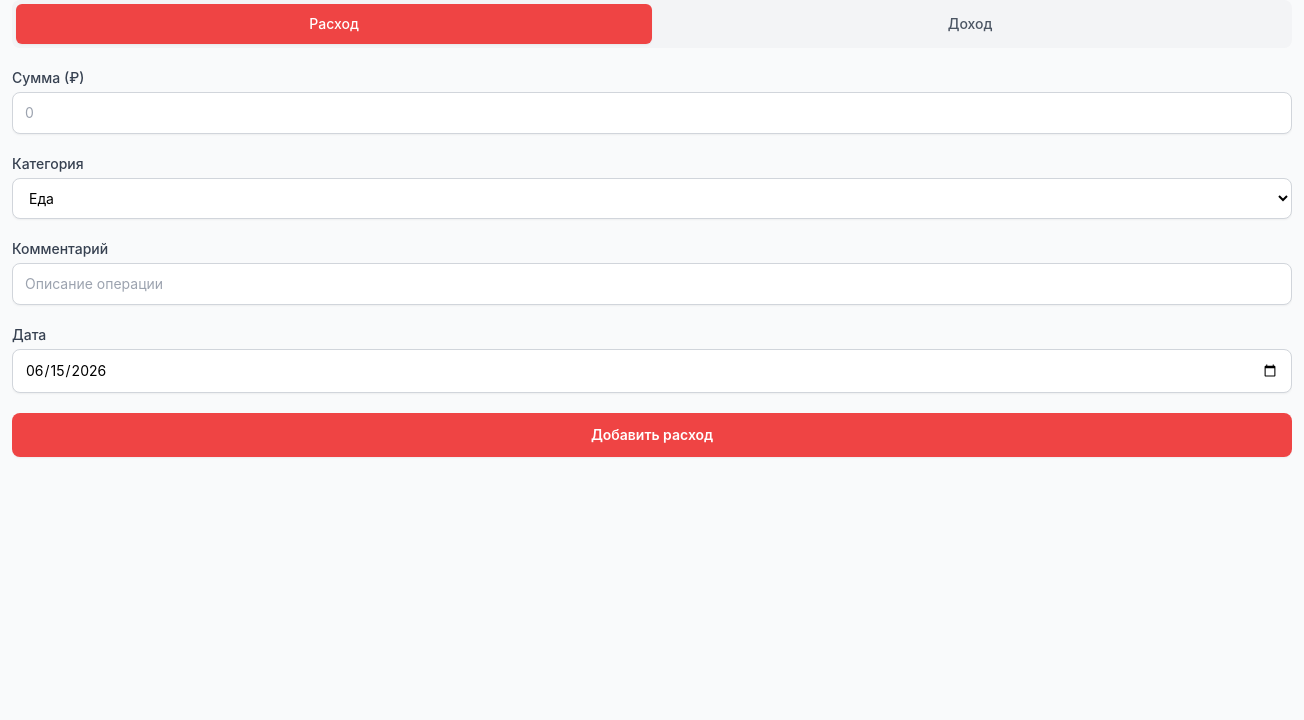
Test: AddTransactionForm › показывает ошибку при пустой сумме
This screenshot has width=1304, height=720.
In the field labelled "Комментарий": (652, 284) x1=12 y1=263 x2=1292 y2=305, type "Тест"
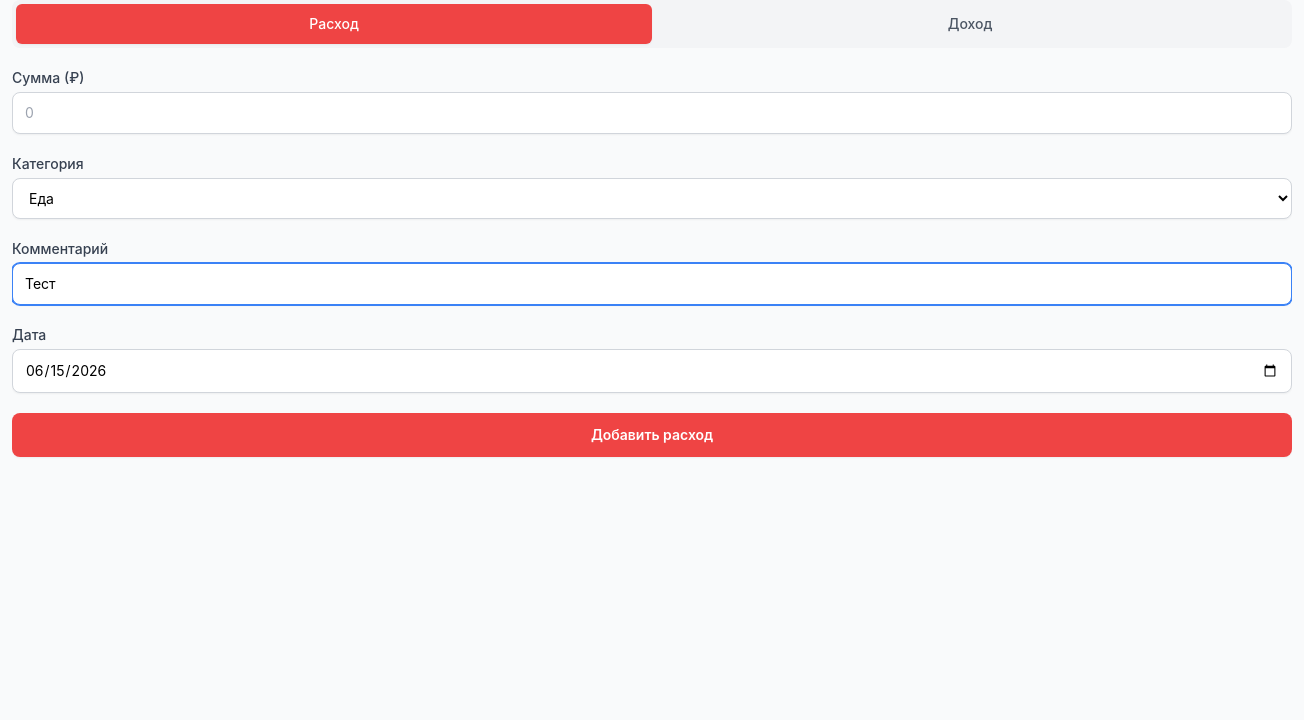
Click the button "Добавить расход": (652, 435) x1=12 y1=413 x2=1292 y2=457
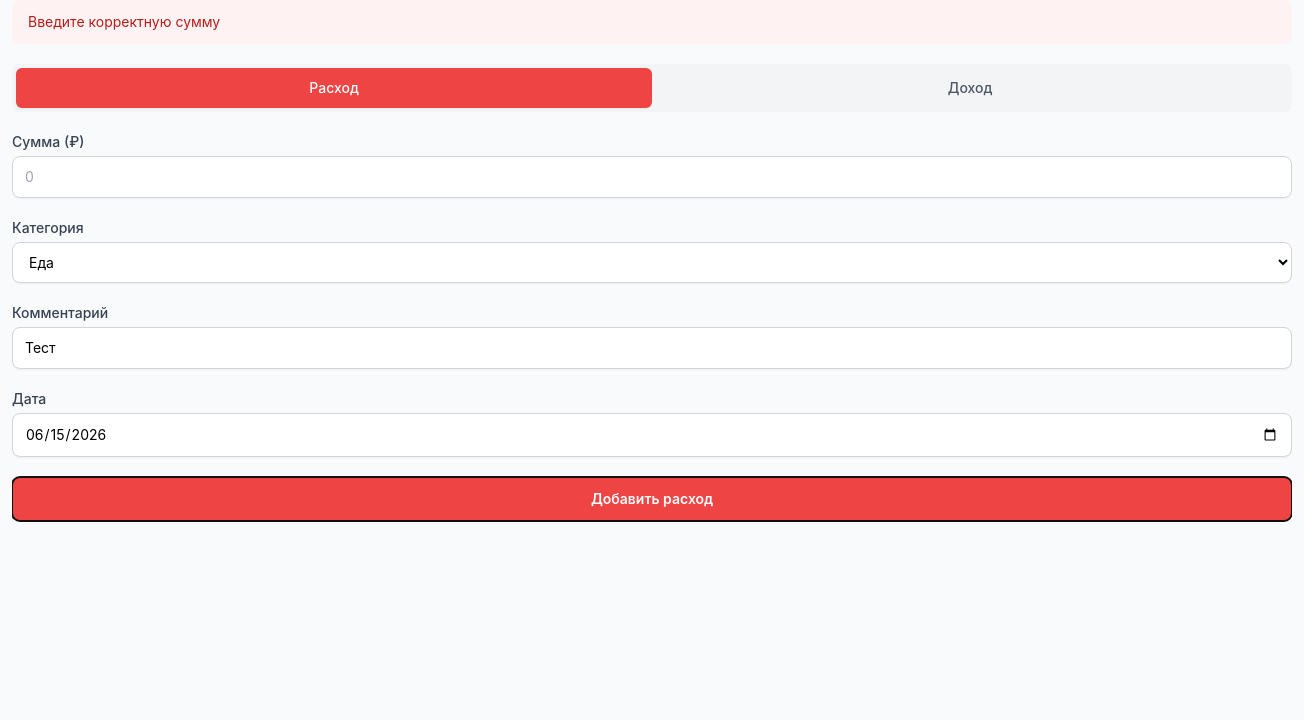
Now the text "Введите корректную сумму" is shown, box x1=12 y1=0 x2=1292 y2=44
